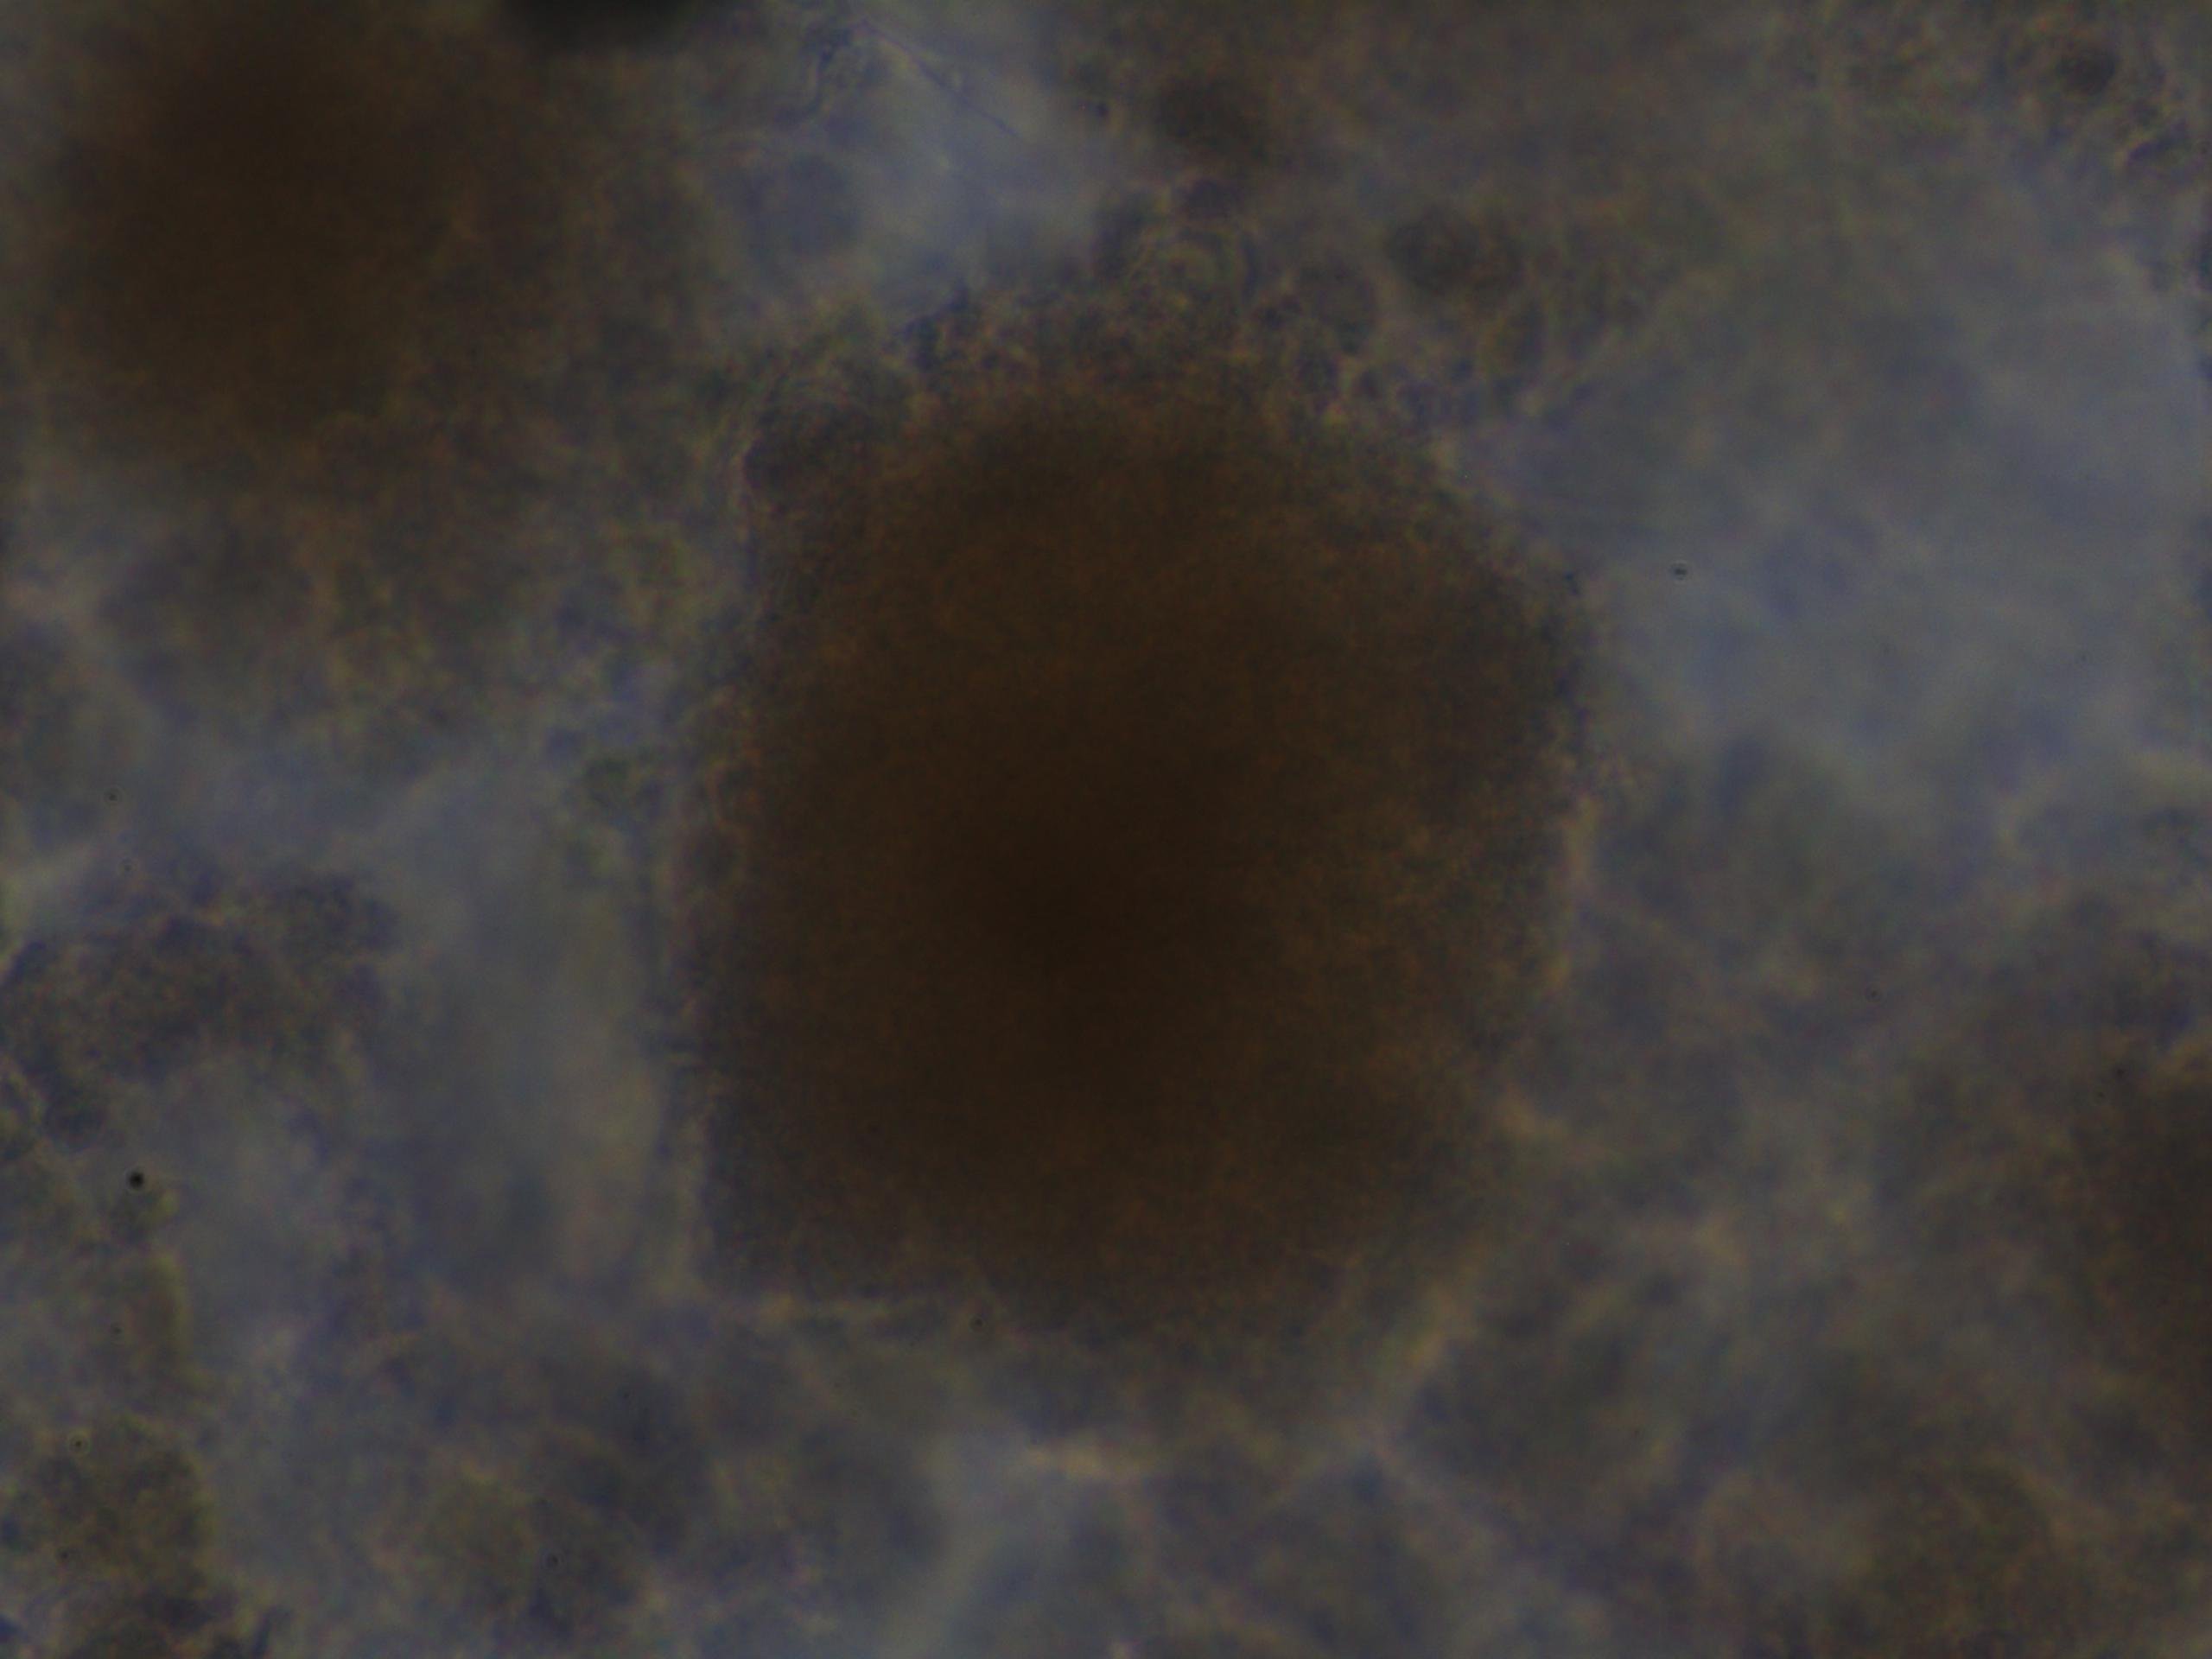spherical_floc: (671, 307, 1592, 1410)
